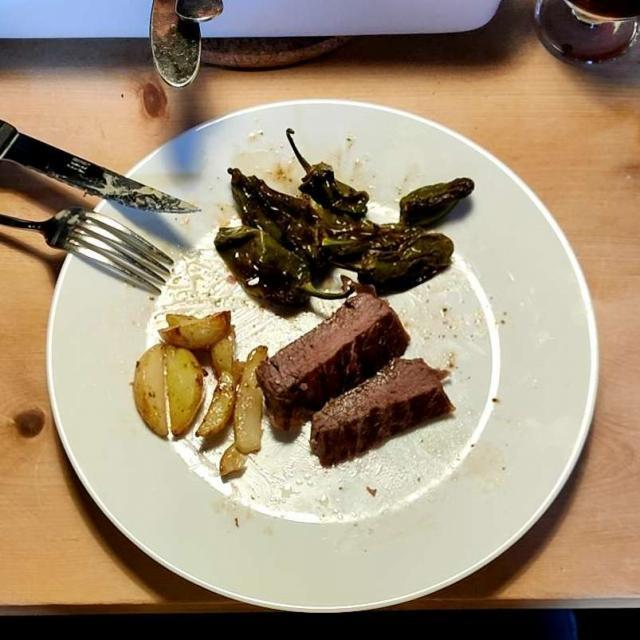baked-potato: (140, 314, 262, 469)
beef: (252, 288, 452, 453)
bell-pepper: (212, 160, 468, 310)
